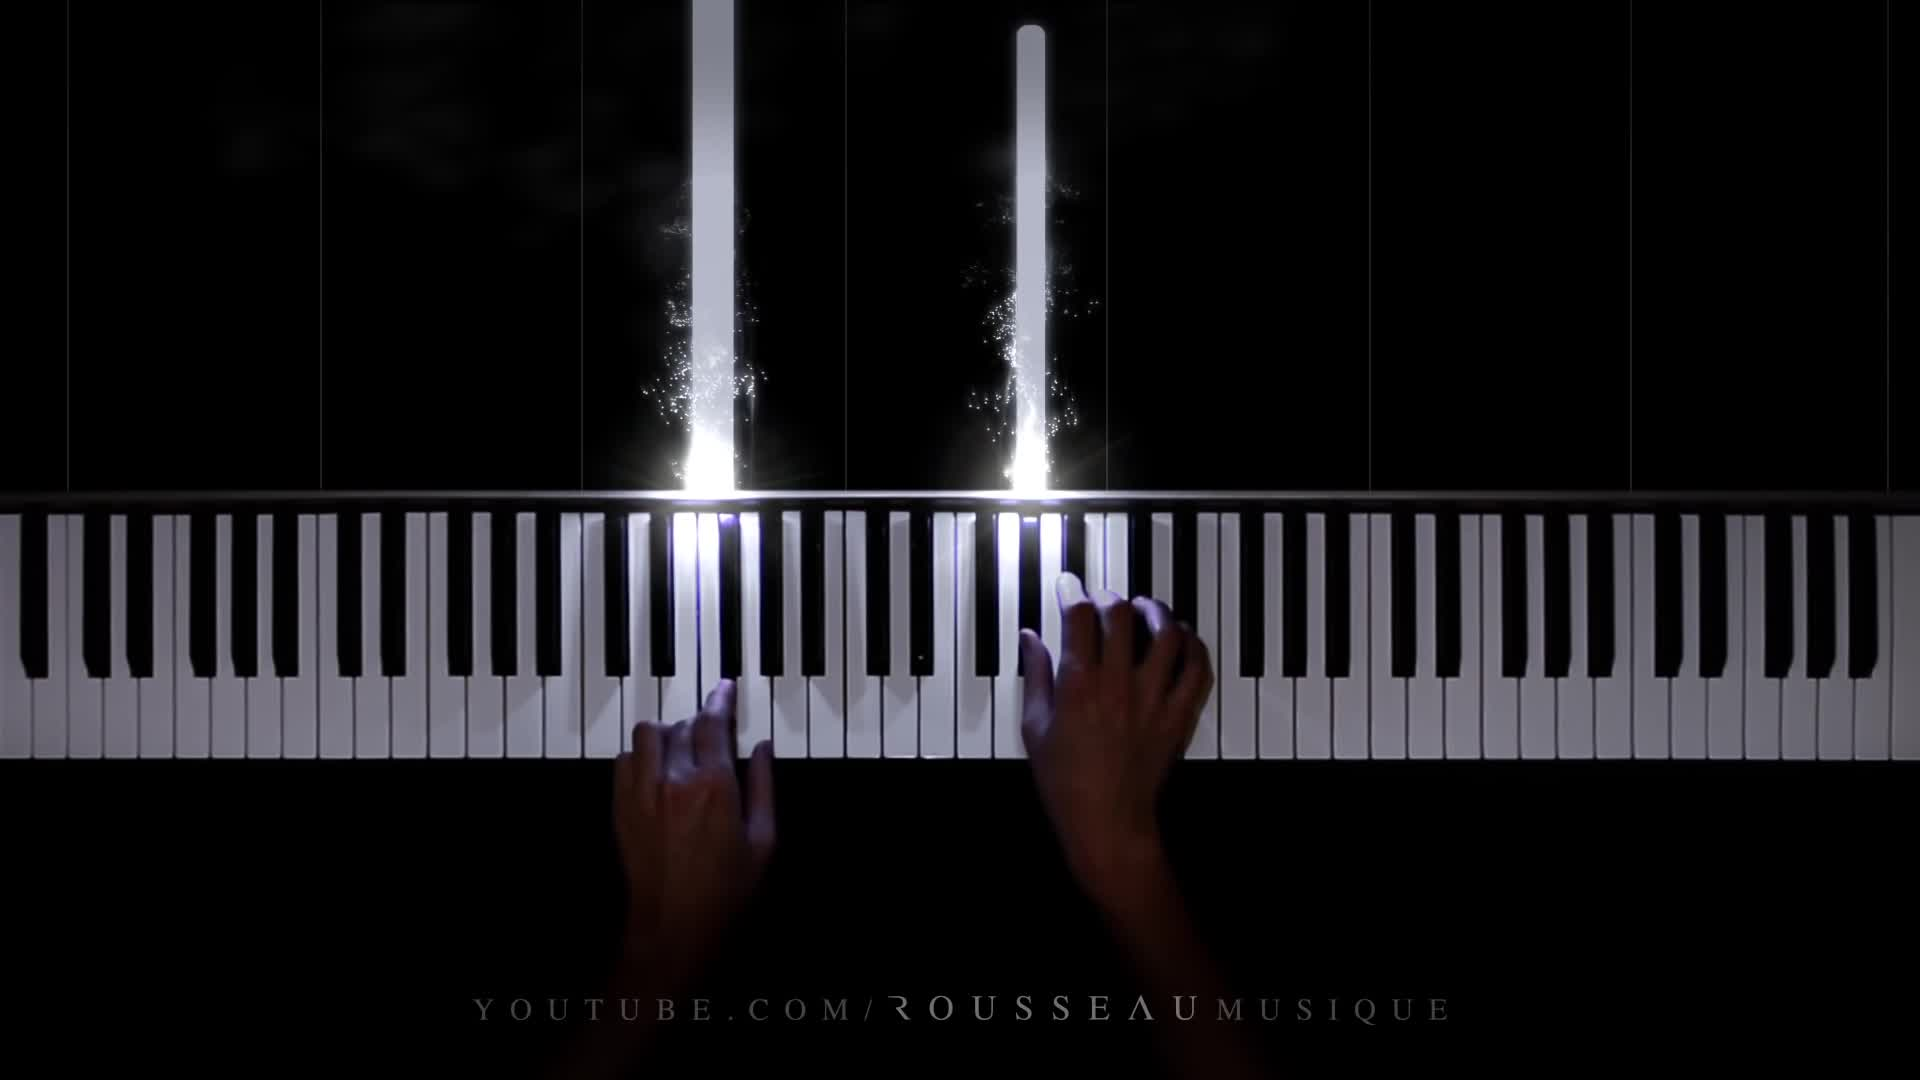left: (611, 679, 777, 934)
right: (1013, 570, 1218, 836)
